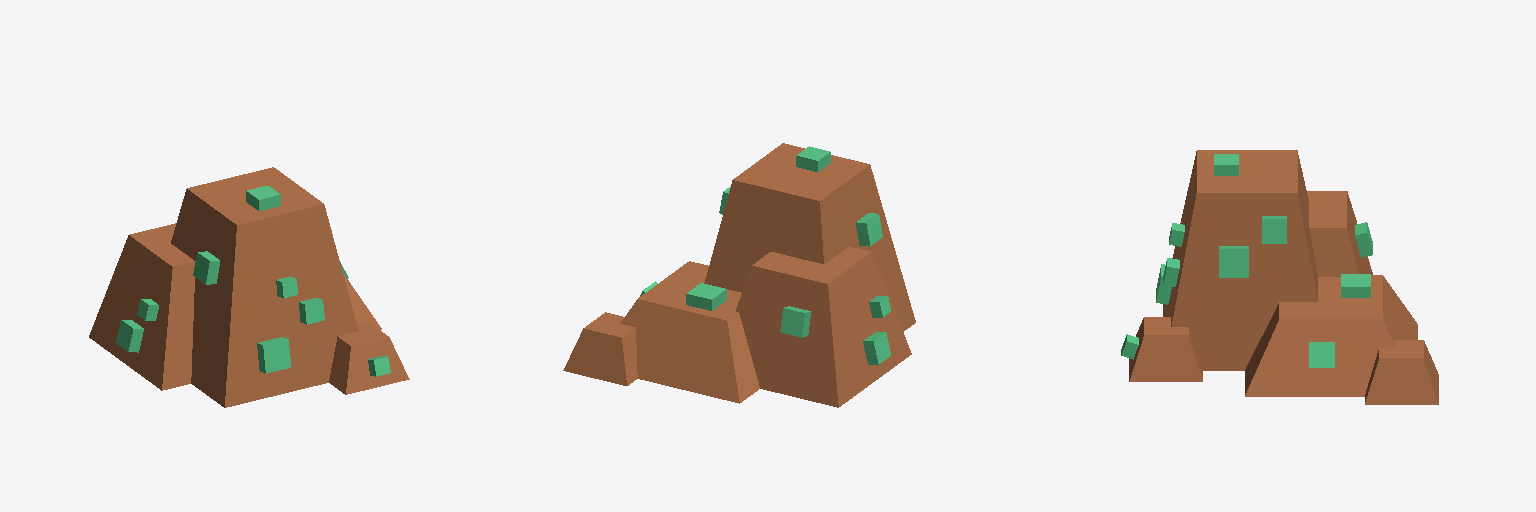
File: rocksSmallOre.obj
3 views of the same model, side by side, from view 1: azimuth 30°, elevation 25°; view 2: azimuth 150°, elevation 25°; view 3: azimuth 270°, elevation 25° (orthographic).
Parts seen in each view (by area): view 1: rocksSmallOre; view 2: rocksSmallOre; view 3: rocksSmallOre.
Part boxes in pixels (x1,y1,x2,y2): rocksSmallOre: (89, 167, 409, 407); rocksSmallOre: (563, 143, 915, 407); rocksSmallOre: (1121, 150, 1438, 404).
Size of the model in its own units: 6.86 by 4.57 by 7.5.